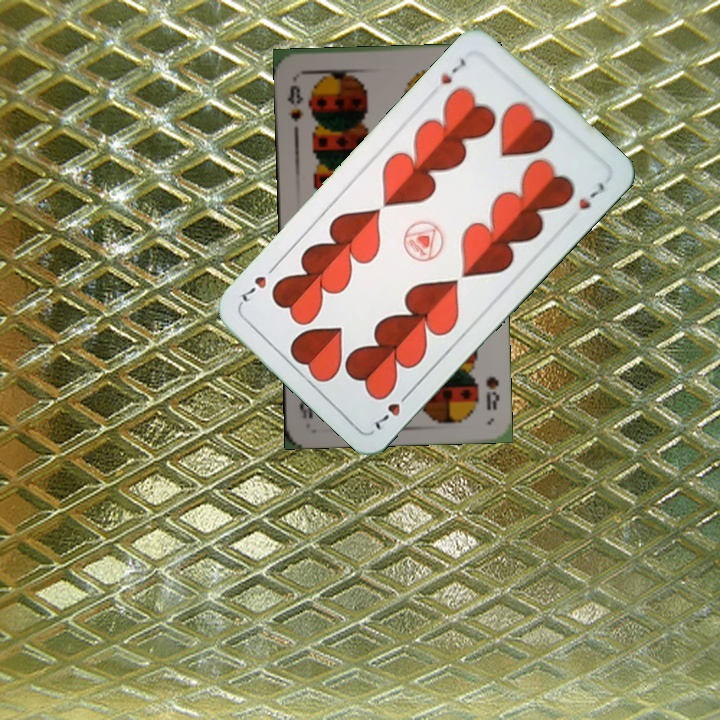H7: (368, 386, 415, 433), (436, 54, 470, 87)
S8: (283, 81, 306, 124), (482, 372, 502, 413)
